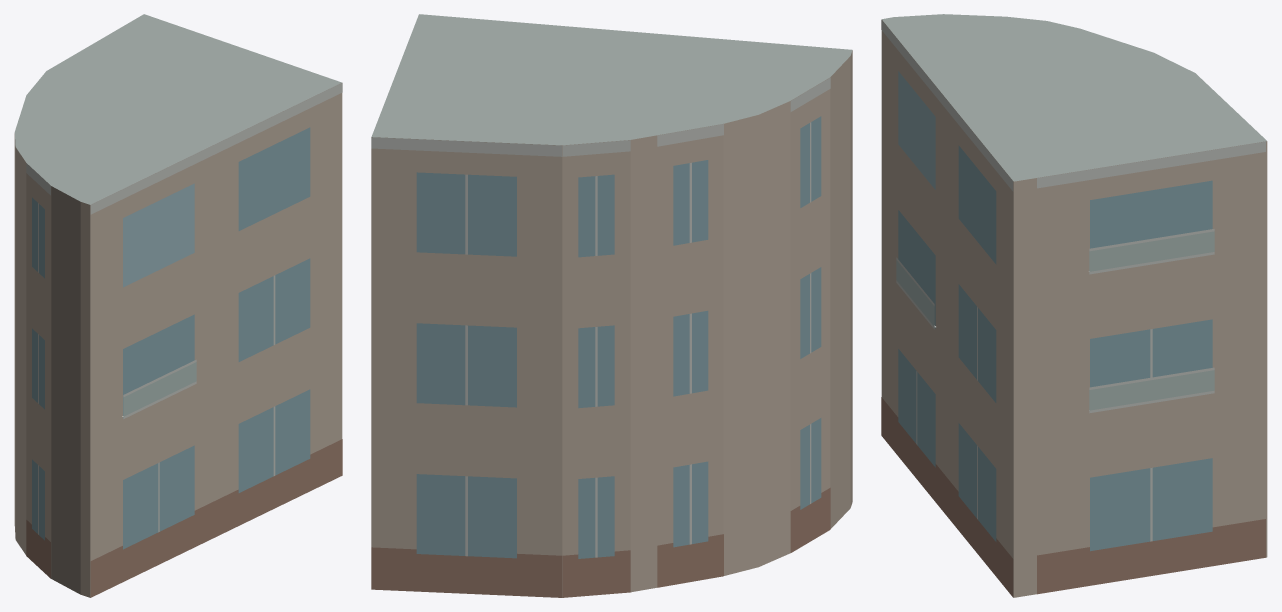
Rendered from survey-upis-32899425.glb.
3 views of the same model, side by side, from view 1: azimuth 30°, elevation 25°; view 2: azimuth 150°, elevation 25°; view 3: azimuth 270°, elevation 25° (orthographic). The views are drawn at different scales.
Visible parts, largest first — view 1: survey-upis-32899425.tmp; view 2: survey-upis-32899425.tmp; view 3: survey-upis-32899425.tmp.
Part boxes in pixels (x1,y1,x2,y2): survey-upis-32899425.tmp: [14, 14, 342, 597]; survey-upis-32899425.tmp: [371, 14, 852, 597]; survey-upis-32899425.tmp: [881, 14, 1267, 597].
Bounding box in the file's own units: 8.29 × 9.6 × 8.08.
